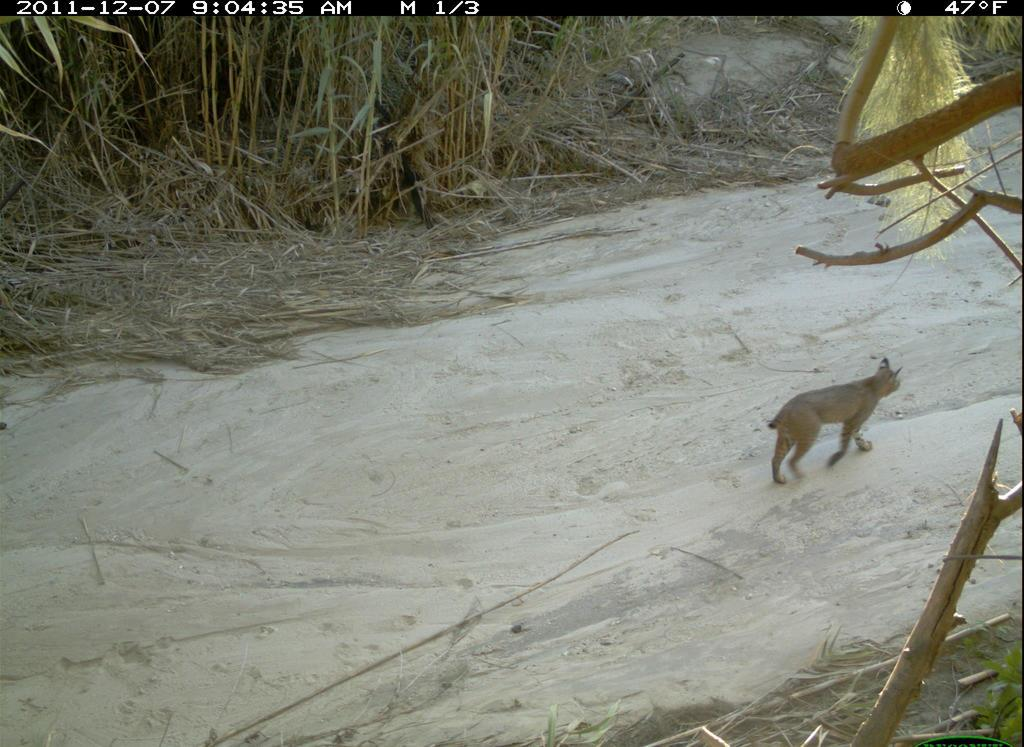bobcat: (766, 356, 905, 486)
